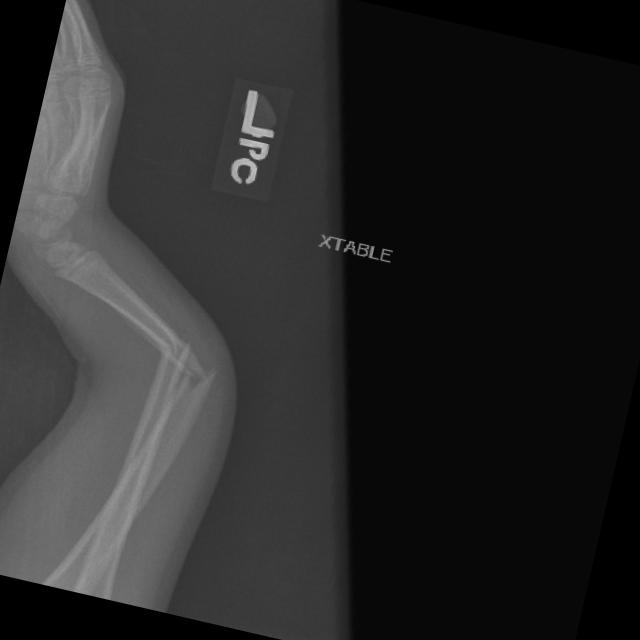forearm fracture: (79, 279, 282, 475)
